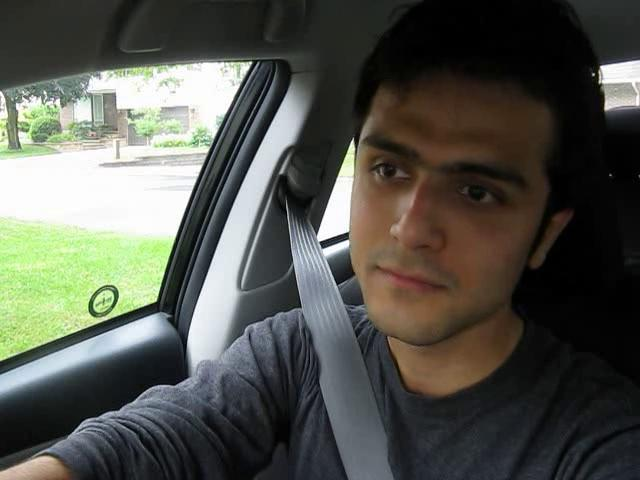no_yawn: (349, 251, 467, 310)
open_eyeL: (356, 149, 424, 193)
open_eyeR: (438, 170, 531, 219)
